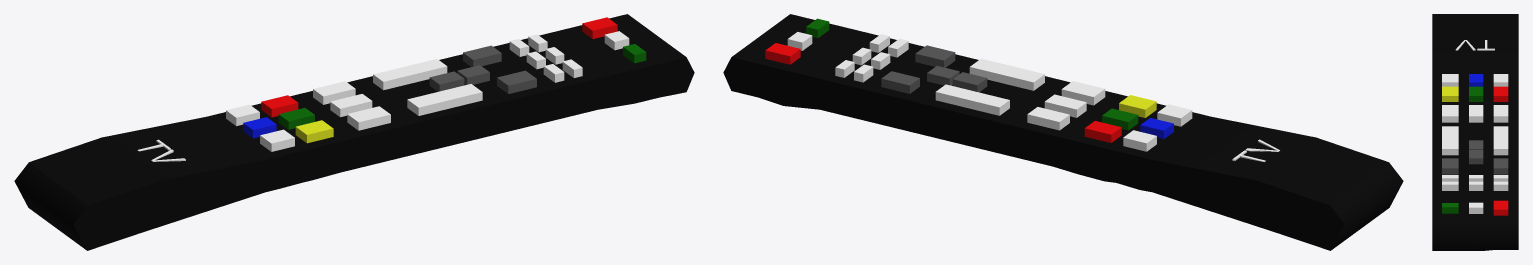
File: RemoteControNEW_1309 1.obj
The picture shows the model from 3 angles, left to right: view 1: azimuth 30°, elevation 25°; view 2: azimuth 150°, elevation 25°; view 3: azimuth 270°, elevation 25°; orthographic projection. The views are drawn at different scales.
Parts seen in each view (by area): view 1: Box001; view 2: Box001; view 3: Box001, Text001.
Boxes of the visible parts, <box> form: Box001: <box>14,14,694,250</box>; Box001: <box>723,14,1403,250</box>; Box001: <box>1432,14,1518,250</box>; Text001: <box>1455,40,1494,50</box>.
Bounding box in the file's own units: 101 × 8.71 × 16.63.
